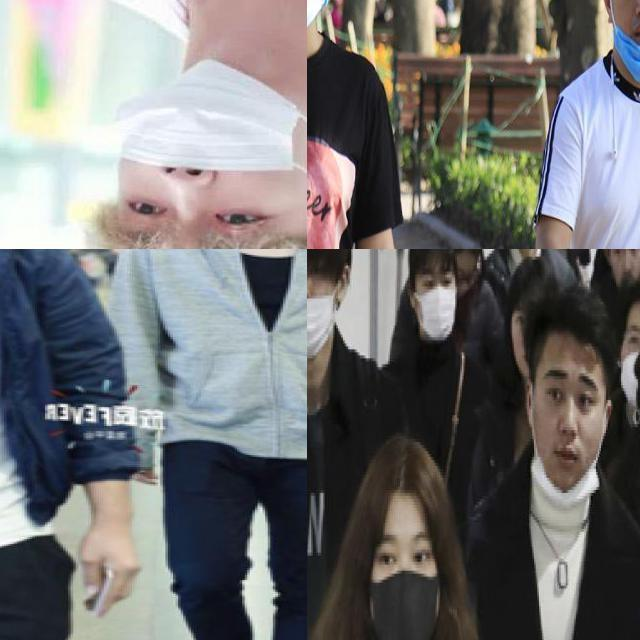hairnet: (116, 61, 288, 200), (537, 415, 603, 505), (307, 284, 341, 356), (614, 8, 640, 83)
